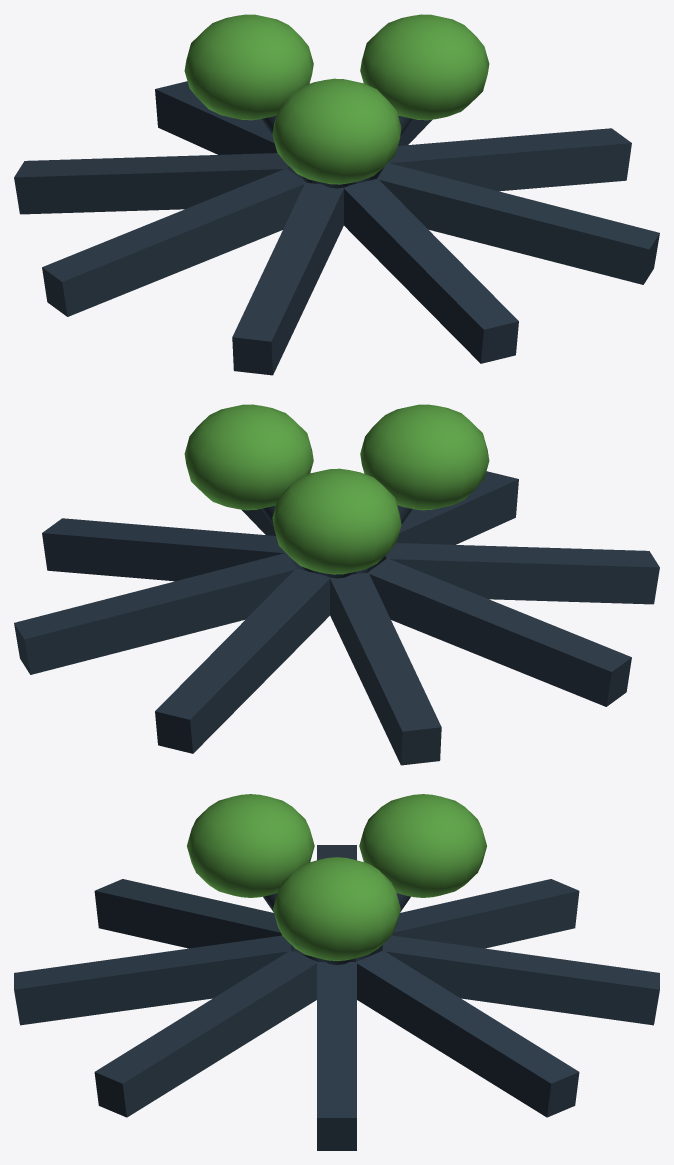
File: CMU3DHiveXenoFruitSpore.glb
The picture shows the model from 3 angles, top to bottom: view 1: azimuth 30°, elevation 25°; view 2: azimuth 150°, elevation 25°; view 3: azimuth 270°, elevation 25°; orthographic projection.
Parts seen in each view (by area): view 1: anchoring root (×7), nutrient fruit (×3); view 2: anchoring root (×7), nutrient fruit (×3); view 3: anchoring root (×8), nutrient fruit (×3).
Part boxes in pixels (bbox=[...]): anchoring root (×7): bbox=[14, 81, 659, 375]; nutrient fruit (×3): bbox=[184, 14, 489, 184]; anchoring root (×7): bbox=[14, 471, 659, 765]; nutrient fruit (×3): bbox=[184, 404, 489, 574]; anchoring root (×8): bbox=[14, 845, 659, 1150]; nutrient fruit (×3): bbox=[187, 794, 486, 960].
Size of the model in its own units: 0.9085 by 0.3027 by 0.9085.
